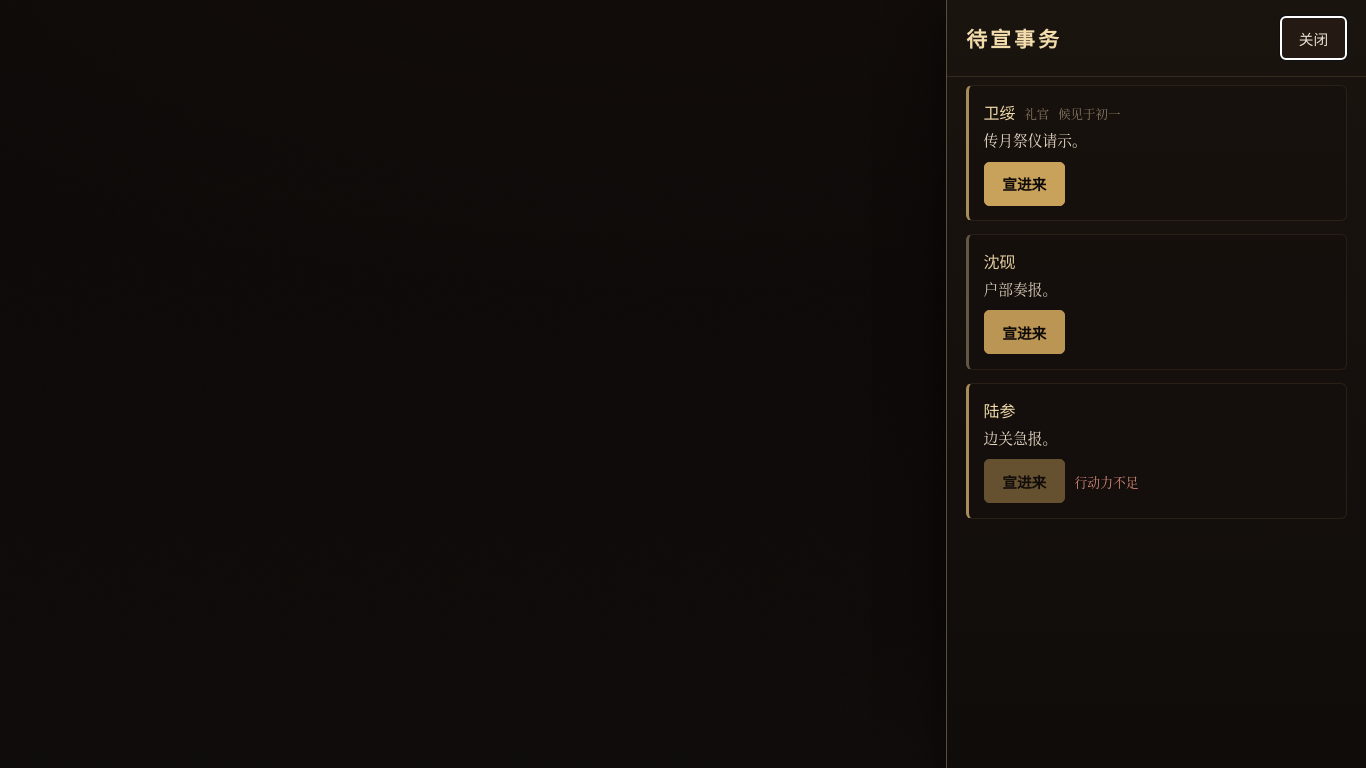
Test: PendingAudienceDrawer › Blocker 2 / regr 5. after admit is claimed but the drawer stays mounted, focus moves to dialog and all actions disable
The width and height of the screenshot is (1366, 768).
Click the button "宣进来" below "传月祭仪请示。".
click(1024, 184)  # box [984, 162, 1065, 206]
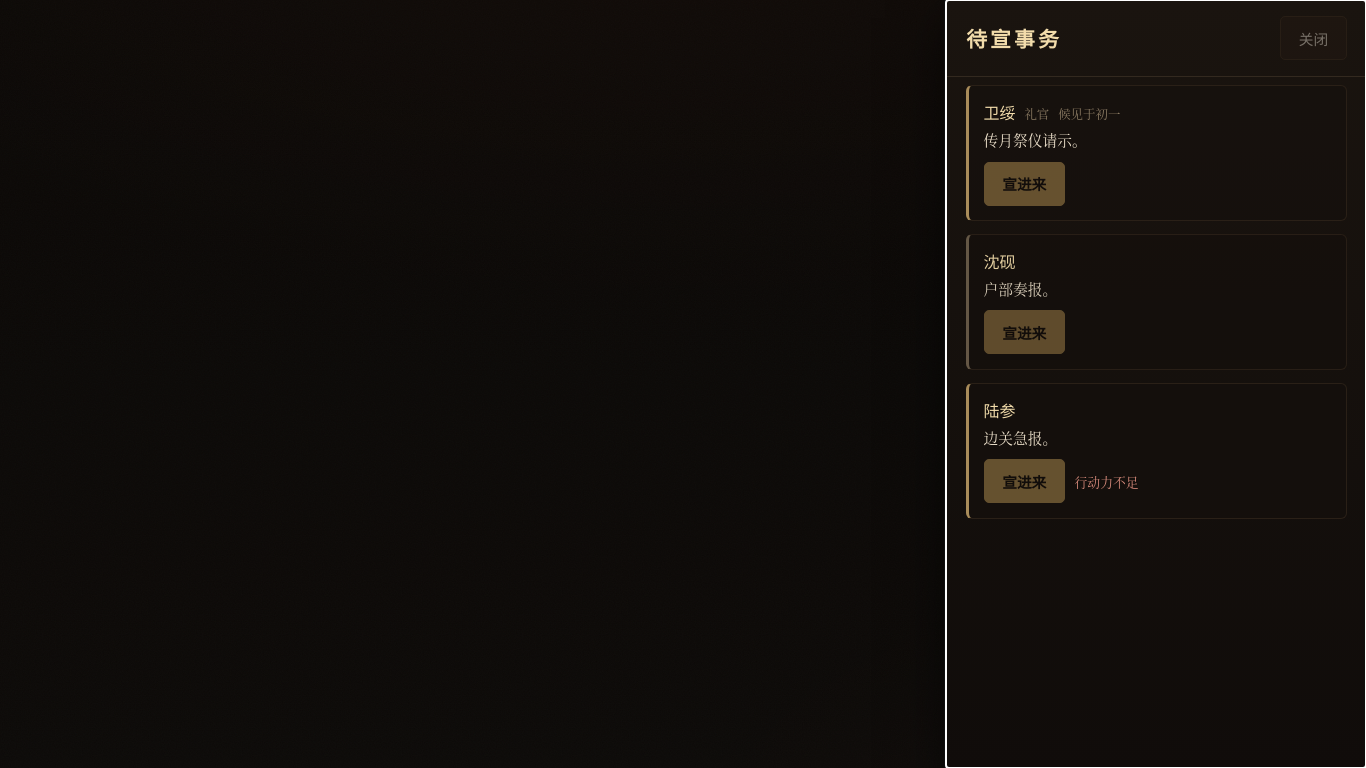
Result: the button "关闭" is disabled at [1280, 16, 1347, 60]
Result: the button "宣进来" below "传月祭仪请示。" is disabled at [984, 162, 1065, 206]
Result: the button "宣进来" below "户部奏报。" is disabled at [984, 310, 1065, 354]
